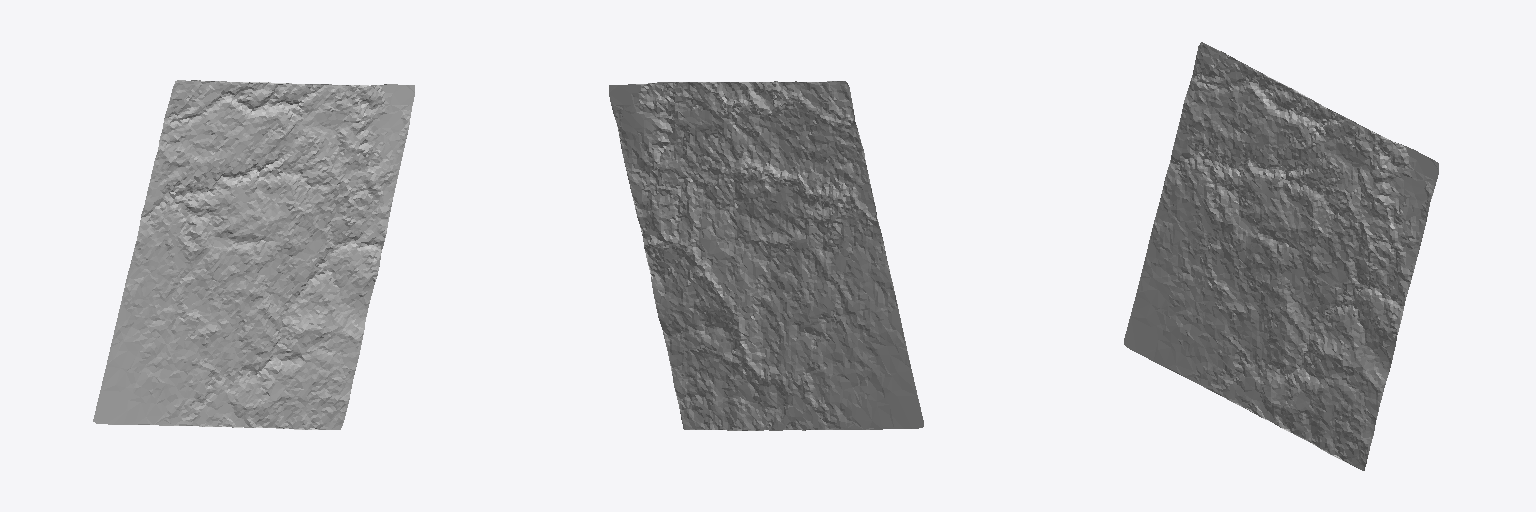
Rendered from mariposaw2.obj.
The picture shows the model from 3 angles: view 1: azimuth 30°, elevation 25°; view 2: azimuth 150°, elevation 25°; view 3: azimuth 330°, elevation 25°; orthographic projection.
Bounding box in the file's own units: 110876 × 129066 × 3778.